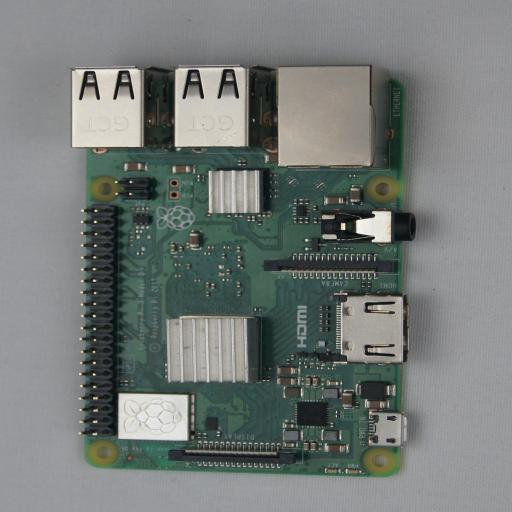Raspberry Pi 3 B-: (71, 58, 431, 477)
